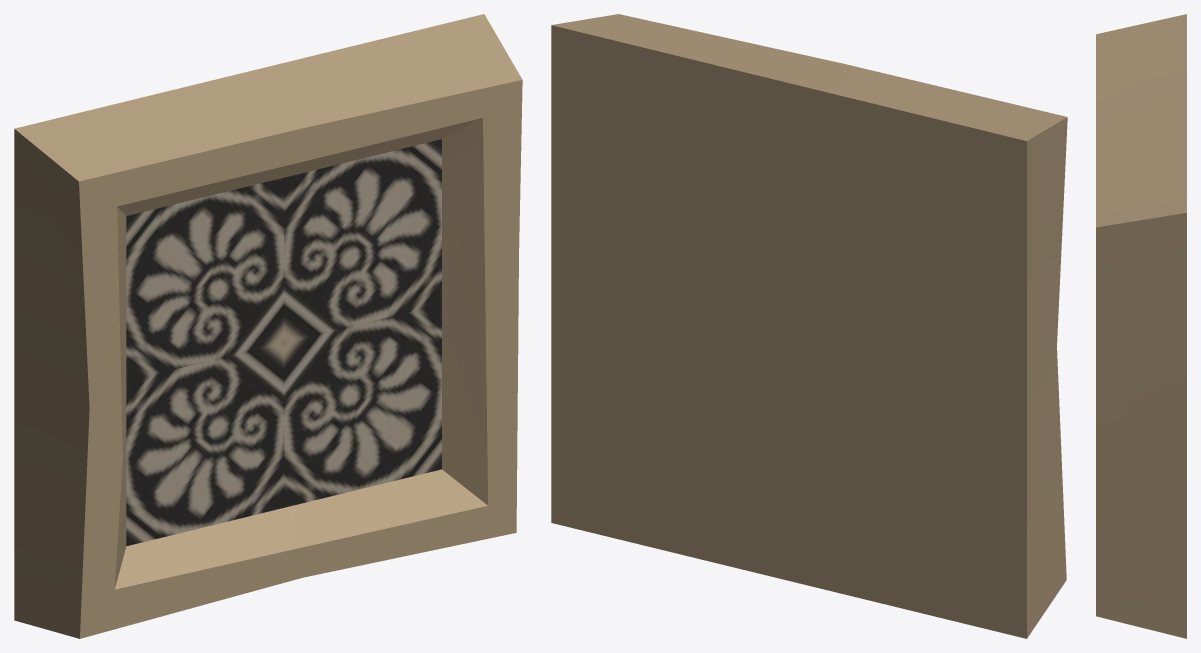
File: ancient_SM_Bld_Ornament_07.gltf
The picture shows the model from 3 angles, left to right: view 1: azimuth 30°, elevation 25°; view 2: azimuth 150°, elevation 25°; view 3: azimuth 270°, elevation 25°; orthographic projection. The views are drawn at different scales.
Visible parts, largest first — view 1: SM_Bld_Ornament_07; view 2: SM_Bld_Ornament_07; view 3: SM_Bld_Ornament_07.
Boxes of the visible parts, x1,y1,x2,y2 form: SM_Bld_Ornament_07: (14,14,522,638); SM_Bld_Ornament_07: (551,14,1067,638); SM_Bld_Ornament_07: (1096,14,1186,638).
Size of the model in its own units: 0.5838 by 0.5838 by 0.1129.
Materials: 1 (1 with a texture image).
